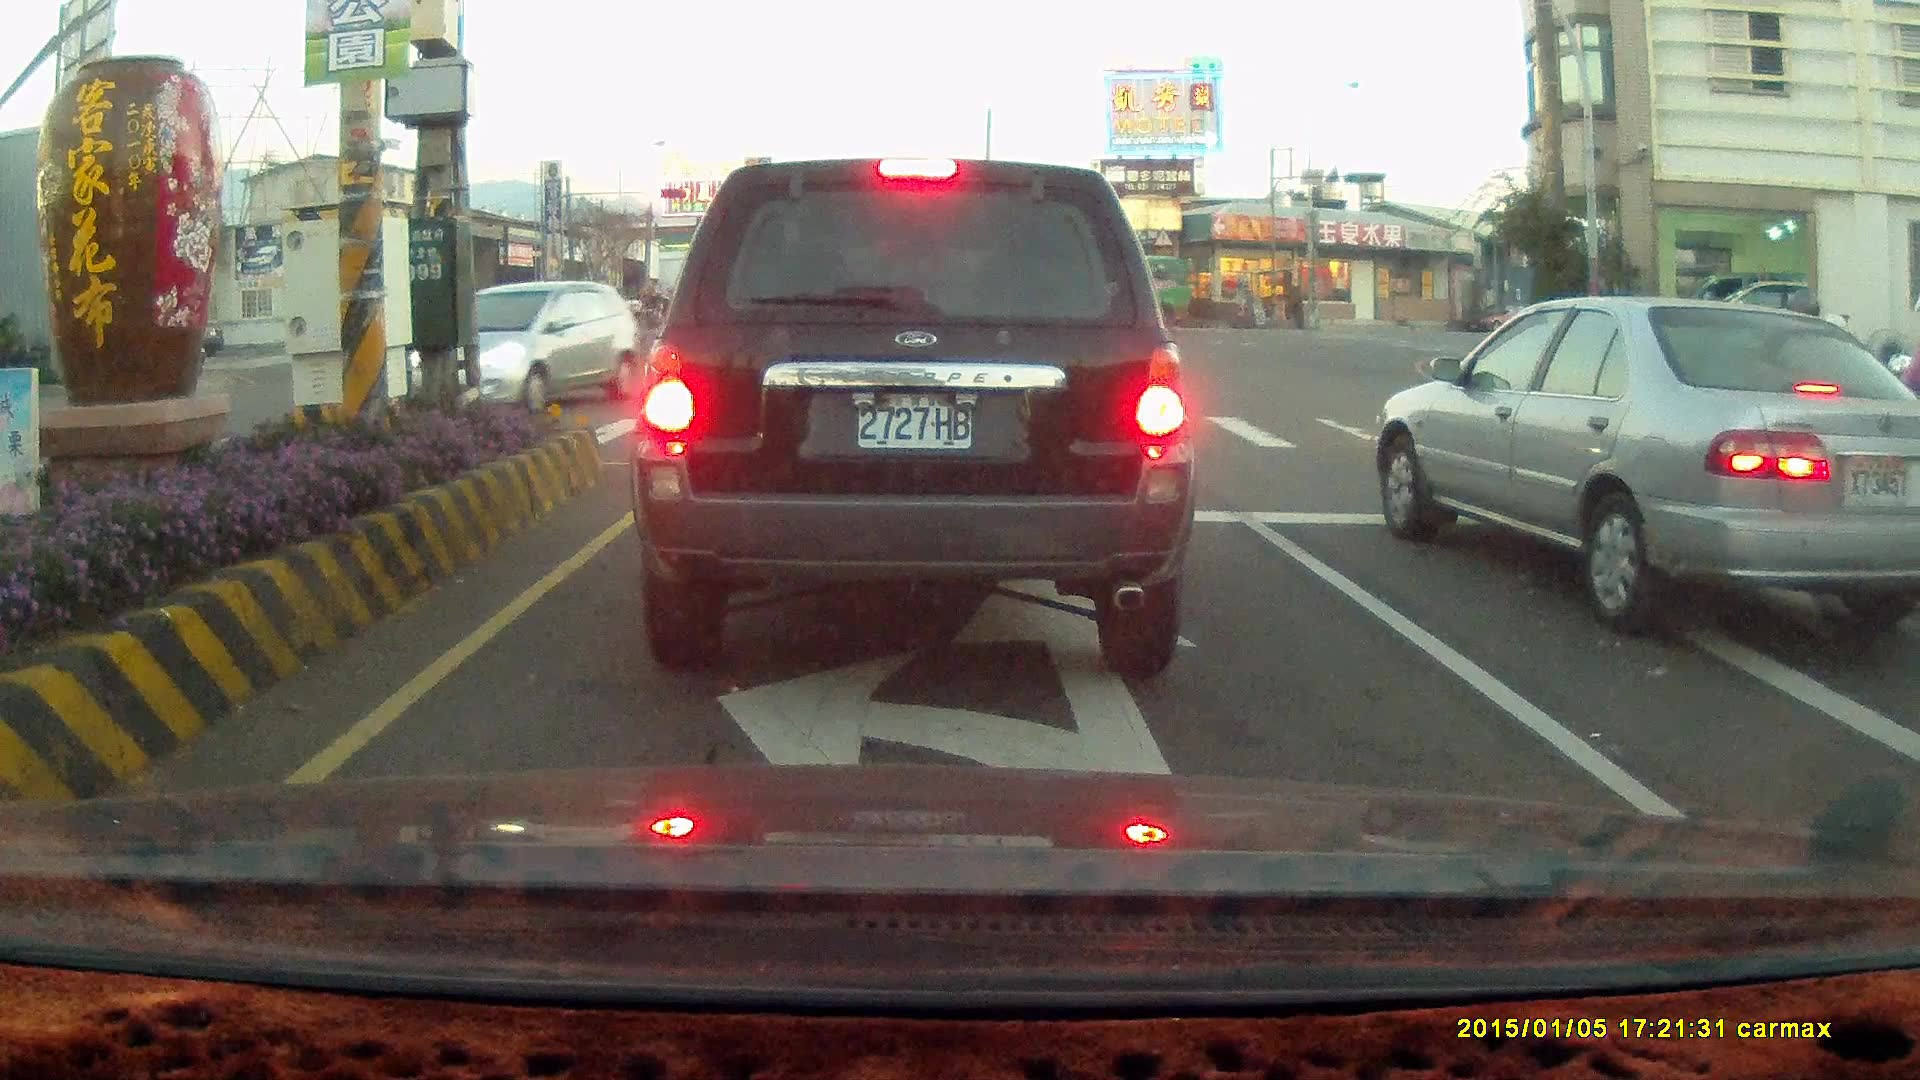rider: (643, 296, 664, 333)
vehicle: (625, 156, 1197, 681), (1360, 293, 1920, 627), (1376, 298, 1920, 616), (406, 282, 647, 414), (784, 246, 1017, 371), (1661, 275, 1812, 368), (1047, 254, 1203, 341), (1896, 493, 1920, 836)
